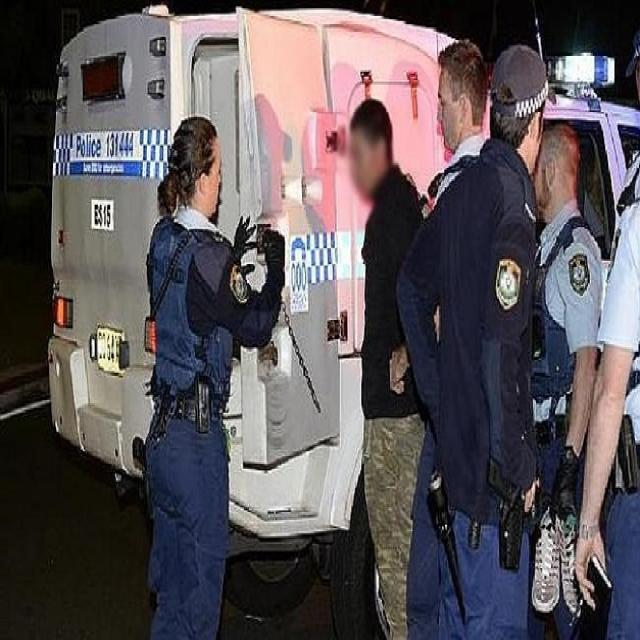body: (393, 37, 551, 640), (128, 109, 286, 638), (347, 96, 428, 640), (525, 120, 604, 640), (570, 198, 640, 638), (414, 35, 494, 224), (574, 36, 640, 241)
